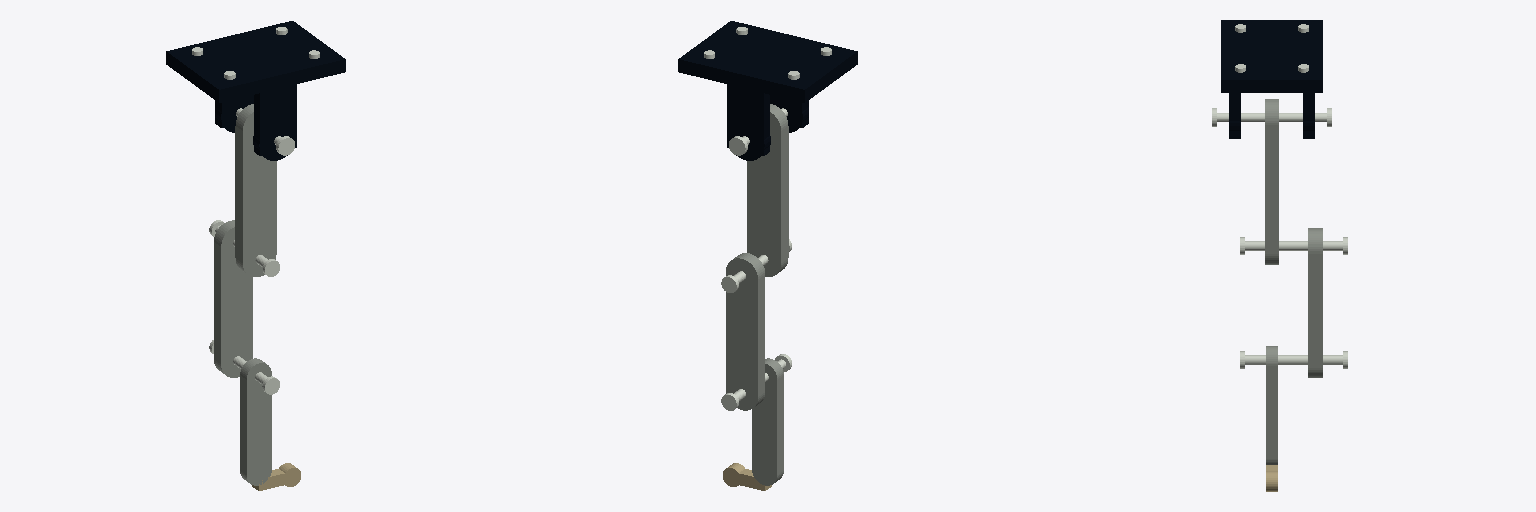
The robot description file, URDF, robot "under_slung_lever_chain":
<robot name="under_slung_lever_chain">
  <material name="dark_blue_painted_steel">
    <color rgba="0.05 0.08 0.12 1" />
    </material>
  <material name="brushed_zinc_link">
    <color rgba="0.58 0.6 0.57 1" />
    </material>
  <material name="polished_pin_steel">
    <color rgba="0.82 0.84 0.8 1" />
    </material>
  <material name="small_bare_end_tab">
    <color rgba="0.72 0.66 0.52 1" />
    </material>
  <material name="dark_hole_bushing">
    <color rgba="0.015 0.014 0.012 1" />
    </material>
  <link name="support_bracket">
    <visual name="top_plate">
      <origin xyz="0 0 0.085" rpy="0 0 0" />
      <geometry>
        <box size="0.18 0.13 0.018" />
        </geometry>
      <material name="dark_blue_painted_steel">
        <color rgba="0.05 0.08 0.12 1" />
        </material>
      </visual>
    <visual name="side_cheek_neg">
      <origin xyz="0 -0.047 0.032" rpy="0 0 0" />
      <geometry>
        <box size="0.052 0.016 0.095" />
        </geometry>
      <material name="dark_blue_painted_steel">
        <color rgba="0.05 0.08 0.12 1" />
        </material>
      </visual>
    <visual name="cheek_boss_neg">
      <origin xyz="0 -0.047 0" rpy="-1.5708 0 0" />
      <geometry>
        <cylinder radius="0.027" length="0.016" />
        </geometry>
      <material name="dark_blue_painted_steel">
        <color rgba="0.05 0.08 0.12 1" />
        </material>
      </visual>
    <visual name="side_cheek_pos">
      <origin xyz="0 0.047 0.032" rpy="0 0 0" />
      <geometry>
        <box size="0.052 0.016 0.095" />
        </geometry>
      <material name="dark_blue_painted_steel">
        <color rgba="0.05 0.08 0.12 1" />
        </material>
      </visual>
    <visual name="cheek_boss_pos">
      <origin xyz="0 0.047 0" rpy="-1.5708 0 0" />
      <geometry>
        <cylinder radius="0.027" length="0.016" />
        </geometry>
      <material name="dark_blue_painted_steel">
        <color rgba="0.05 0.08 0.12 1" />
        </material>
      </visual>
    <visual name="support_pin">
      <origin xyz="0 0 0" rpy="-1.5708 0 0" />
      <geometry>
        <cylinder radius="0.006" length="0.146" />
        </geometry>
      <material name="polished_pin_steel">
        <color rgba="0.82 0.84 0.8 1" />
        </material>
      </visual>
    <visual name="support_pin_head_neg">
      <origin xyz="0 -0.073 0" rpy="-1.5708 0 0" />
      <geometry>
        <cylinder radius="0.012" length="0.006" />
        </geometry>
      <material name="polished_pin_steel">
        <color rgba="0.82 0.84 0.8 1" />
        </material>
      </visual>
    <visual name="support_pin_head_pos">
      <origin xyz="0 0.073 0" rpy="-1.5708 0 0" />
      <geometry>
        <cylinder radius="0.012" length="0.006" />
        </geometry>
      <material name="polished_pin_steel">
        <color rgba="0.82 0.84 0.8 1" />
        </material>
      </visual>
    <visual name="bolt_negx_negy">
      <origin xyz="-0.06 -0.04 0.0965" rpy="0 0 0" />
      <geometry>
        <cylinder radius="0.007" length="0.006" />
        </geometry>
      <material name="polished_pin_steel">
        <color rgba="0.82 0.84 0.8 1" />
        </material>
      </visual>
    <visual name="bolt_negx_posy">
      <origin xyz="-0.06 0.04 0.0965" rpy="0 0 0" />
      <geometry>
        <cylinder radius="0.007" length="0.006" />
        </geometry>
      <material name="polished_pin_steel">
        <color rgba="0.82 0.84 0.8 1" />
        </material>
      </visual>
    <visual name="bolt_posx_negy">
      <origin xyz="0.06 -0.04 0.0965" rpy="0 0 0" />
      <geometry>
        <cylinder radius="0.007" length="0.006" />
        </geometry>
      <material name="polished_pin_steel">
        <color rgba="0.82 0.84 0.8 1" />
        </material>
      </visual>
    <visual name="bolt_posx_posy">
      <origin xyz="0.06 0.04 0.0965" rpy="0 0 0" />
      <geometry>
        <cylinder radius="0.007" length="0.006" />
        </geometry>
      <material name="polished_pin_steel">
        <color rgba="0.82 0.84 0.8 1" />
        </material>
      </visual>
    <collision name="top_plate">
      <origin xyz="0 0 0.085" rpy="0 0 0" />
      <geometry>
        <box size="0.18 0.13 0.018" />
        </geometry>
      </collision>
    <collision name="side_cheek_neg">
      <origin xyz="0 -0.047 0.032" rpy="0 0 0" />
      <geometry>
        <box size="0.052 0.016 0.095" />
        </geometry>
      </collision>
    <collision name="cheek_boss_neg">
      <origin xyz="0 -0.047 0" rpy="-1.5708 0 0" />
      <geometry>
        <cylinder radius="0.027" length="0.016" />
        </geometry>
      </collision>
    <collision name="side_cheek_pos">
      <origin xyz="0 0.047 0.032" rpy="0 0 0" />
      <geometry>
        <box size="0.052 0.016 0.095" />
        </geometry>
      </collision>
    <collision name="cheek_boss_pos">
      <origin xyz="0 0.047 0" rpy="-1.5708 0 0" />
      <geometry>
        <cylinder radius="0.027" length="0.016" />
        </geometry>
      </collision>
    <collision name="support_pin">
      <origin xyz="0 0 0" rpy="-1.5708 0 0" />
      <geometry>
        <cylinder radius="0.006" length="0.146" />
        </geometry>
      </collision>
    <collision name="support_pin_head_neg">
      <origin xyz="0 -0.073 0" rpy="-1.5708 0 0" />
      <geometry>
        <cylinder radius="0.012" length="0.006" />
        </geometry>
      </collision>
    <collision name="support_pin_head_pos">
      <origin xyz="0 0.073 0" rpy="-1.5708 0 0" />
      <geometry>
        <cylinder radius="0.012" length="0.006" />
        </geometry>
      </collision>
    <collision name="bolt_negx_negy">
      <origin xyz="-0.06 -0.04 0.0965" rpy="0 0 0" />
      <geometry>
        <cylinder radius="0.007" length="0.006" />
        </geometry>
      </collision>
    <collision name="bolt_negx_posy">
      <origin xyz="-0.06 0.04 0.0965" rpy="0 0 0" />
      <geometry>
        <cylinder radius="0.007" length="0.006" />
        </geometry>
      </collision>
    <collision name="bolt_posx_negy">
      <origin xyz="0.06 -0.04 0.0965" rpy="0 0 0" />
      <geometry>
        <cylinder radius="0.007" length="0.006" />
        </geometry>
      </collision>
    <collision name="bolt_posx_posy">
      <origin xyz="0.06 0.04 0.0965" rpy="0 0 0" />
      <geometry>
        <cylinder radius="0.007" length="0.006" />
        </geometry>
      </collision>
    </link>
  <link name="link_0">
    <visual name="link_plate">
      <geometry>
        <mesh filename="assets/meshes/link_0_plate.obj" />
        </geometry>
      <material name="brushed_zinc_link">
        <color rgba="0.58 0.6 0.57 1" />
        </material>
      </visual>
    <visual name="top_bushing">
      <geometry>
        <mesh filename="assets/meshes/link_0_top_bushing.obj" />
        </geometry>
      <material name="dark_hole_bushing">
        <color rgba="0.015 0.014 0.012 1" />
        </material>
      </visual>
    <visual name="lower_bushing">
      <geometry>
        <mesh filename="assets/meshes/link_0_lower_bushing.obj" />
        </geometry>
      <material name="dark_hole_bushing">
        <color rgba="0.015 0.014 0.012 1" />
        </material>
      </visual>
    <visual name="lower_pin">
      <origin xyz="0 0.0275 -0.18" rpy="-1.5708 0 0" />
      <geometry>
        <cylinder radius="0.006" length="0.132" />
        </geometry>
      <material name="polished_pin_steel">
        <color rgba="0.82 0.84 0.8 1" />
        </material>
      </visual>
    <visual name="lower_pin_head_neg">
      <origin xyz="0 -0.038 -0.18" rpy="-1.5708 0 0" />
      <geometry>
        <cylinder radius="0.011" length="0.006" />
        </geometry>
      <material name="polished_pin_steel">
        <color rgba="0.82 0.84 0.8 1" />
        </material>
      </visual>
    <visual name="lower_pin_head_pos">
      <origin xyz="0 0.093 -0.18" rpy="-1.5708 0 0" />
      <geometry>
        <cylinder radius="0.011" length="0.006" />
        </geometry>
      <material name="polished_pin_steel">
        <color rgba="0.82 0.84 0.8 1" />
        </material>
      </visual>
    <collision name="link_plate">
      <geometry>
        <mesh filename="assets/meshes/link_0_plate.obj" />
        </geometry>
      </collision>
    <collision name="top_bushing">
      <geometry>
        <mesh filename="assets/meshes/link_0_top_bushing.obj" />
        </geometry>
      </collision>
    <collision name="lower_bushing">
      <geometry>
        <mesh filename="assets/meshes/link_0_lower_bushing.obj" />
        </geometry>
      </collision>
    <collision name="lower_pin">
      <origin xyz="0 0.0275 -0.18" rpy="-1.5708 0 0" />
      <geometry>
        <cylinder radius="0.006" length="0.132" />
        </geometry>
      </collision>
    <collision name="lower_pin_head_neg">
      <origin xyz="0 -0.038 -0.18" rpy="-1.5708 0 0" />
      <geometry>
        <cylinder radius="0.011" length="0.006" />
        </geometry>
      </collision>
    <collision name="lower_pin_head_pos">
      <origin xyz="0 0.093 -0.18" rpy="-1.5708 0 0" />
      <geometry>
        <cylinder radius="0.011" length="0.006" />
        </geometry>
      </collision>
    </link>
  <link name="link_1">
    <visual name="link_plate">
      <geometry>
        <mesh filename="assets/meshes/link_1_plate.obj" />
        </geometry>
      <material name="brushed_zinc_link">
        <color rgba="0.58 0.6 0.57 1" />
        </material>
      </visual>
    <visual name="top_bushing">
      <geometry>
        <mesh filename="assets/meshes/link_1_top_bushing.obj" />
        </geometry>
      <material name="dark_hole_bushing">
        <color rgba="0.015 0.014 0.012 1" />
        </material>
      </visual>
    <visual name="lower_bushing">
      <geometry>
        <mesh filename="assets/meshes/link_1_lower_bushing.obj" />
        </geometry>
      <material name="dark_hole_bushing">
        <color rgba="0.015 0.014 0.012 1" />
        </material>
      </visual>
    <visual name="lower_pin">
      <origin xyz="0 0.0275 -0.16" rpy="-1.5708 0 0" />
      <geometry>
        <cylinder radius="0.006" length="0.132" />
        </geometry>
      <material name="polished_pin_steel">
        <color rgba="0.82 0.84 0.8 1" />
        </material>
      </visual>
    <visual name="lower_pin_head_neg">
      <origin xyz="0 -0.038 -0.16" rpy="-1.5708 0 0" />
      <geometry>
        <cylinder radius="0.011" length="0.006" />
        </geometry>
      <material name="polished_pin_steel">
        <color rgba="0.82 0.84 0.8 1" />
        </material>
      </visual>
    <visual name="lower_pin_head_pos">
      <origin xyz="0 0.093 -0.16" rpy="-1.5708 0 0" />
      <geometry>
        <cylinder radius="0.011" length="0.006" />
        </geometry>
      <material name="polished_pin_steel">
        <color rgba="0.82 0.84 0.8 1" />
        </material>
      </visual>
    <collision name="link_plate">
      <geometry>
        <mesh filename="assets/meshes/link_1_plate.obj" />
        </geometry>
      </collision>
    <collision name="top_bushing">
      <geometry>
        <mesh filename="assets/meshes/link_1_top_bushing.obj" />
        </geometry>
      </collision>
    <collision name="lower_bushing">
      <geometry>
        <mesh filename="assets/meshes/link_1_lower_bushing.obj" />
        </geometry>
      </collision>
    <collision name="lower_pin">
      <origin xyz="0 0.0275 -0.16" rpy="-1.5708 0 0" />
      <geometry>
        <cylinder radius="0.006" length="0.132" />
        </geometry>
      </collision>
    <collision name="lower_pin_head_neg">
      <origin xyz="0 -0.038 -0.16" rpy="-1.5708 0 0" />
      <geometry>
        <cylinder radius="0.011" length="0.006" />
        </geometry>
      </collision>
    <collision name="lower_pin_head_pos">
      <origin xyz="0 0.093 -0.16" rpy="-1.5708 0 0" />
      <geometry>
        <cylinder radius="0.011" length="0.006" />
        </geometry>
      </collision>
    </link>
  <link name="link_2">
    <visual name="link_plate">
      <geometry>
        <mesh filename="assets/meshes/link_2_plate.obj" />
        </geometry>
      <material name="brushed_zinc_link">
        <color rgba="0.58 0.6 0.57 1" />
        </material>
      </visual>
    <visual name="top_bushing">
      <geometry>
        <mesh filename="assets/meshes/link_2_top_bushing.obj" />
        </geometry>
      <material name="dark_hole_bushing">
        <color rgba="0.015 0.014 0.012 1" />
        </material>
      </visual>
    <visual name="tab_bushing">
      <geometry>
        <mesh filename="assets/meshes/link_2_tab_bushing.obj" />
        </geometry>
      <material name="dark_hole_bushing">
        <color rgba="0.015 0.014 0.012 1" />
        </material>
      </visual>
    <visual name="end_tab_neck">
      <origin xyz="0.022 0 -0.148" rpy="0 0 0" />
      <geometry>
        <box size="0.045 0.016 0.016" />
        </geometry>
      <material name="small_bare_end_tab">
        <color rgba="0.72 0.66 0.52 1" />
        </material>
      </visual>
    <visual name="end_tab_tip">
      <origin xyz="0.047 0 -0.148" rpy="-1.5708 0 0" />
      <geometry>
        <cylinder radius="0.013" length="0.016" />
        </geometry>
      <material name="small_bare_end_tab">
        <color rgba="0.72 0.66 0.52 1" />
        </material>
      </visual>
    <collision name="link_plate">
      <geometry>
        <mesh filename="assets/meshes/link_2_plate.obj" />
        </geometry>
      </collision>
    <collision name="top_bushing">
      <geometry>
        <mesh filename="assets/meshes/link_2_top_bushing.obj" />
        </geometry>
      </collision>
    <collision name="tab_bushing">
      <geometry>
        <mesh filename="assets/meshes/link_2_tab_bushing.obj" />
        </geometry>
      </collision>
    <collision name="end_tab_neck">
      <origin xyz="0.022 0 -0.148" rpy="0 0 0" />
      <geometry>
        <box size="0.045 0.016 0.016" />
        </geometry>
      </collision>
    <collision name="end_tab_tip">
      <origin xyz="0.047 0 -0.148" rpy="-1.5708 0 0" />
      <geometry>
        <cylinder radius="0.013" length="0.016" />
        </geometry>
      </collision>
    </link>
  <joint name="support_to_link_0" type="revolute">
    <parent link="support_bracket" />
    <child link="link_0" />
    <axis xyz="0 1 0" />
    <limit effort="8" velocity="2.5" lower="-1.05" upper="1.05" />
    </joint>
  <joint name="link_0_to_link_1" type="revolute">
    <origin xyz="0 0 -0.18" rpy="0 0 0" />
    <parent link="link_0" />
    <child link="link_1" />
    <axis xyz="0 1 0" />
    <limit effort="6" velocity="2.5" lower="-1.25" upper="1.25" />
    </joint>
  <joint name="link_1_to_link_2" type="revolute">
    <origin xyz="0 0 -0.16" rpy="0 0 0" />
    <parent link="link_1" />
    <child link="link_2" />
    <axis xyz="0 1 0" />
    <limit effort="4" velocity="2.5" lower="-1.35" upper="1.35" />
    </joint>
  </robot>

--- Facts derived from the render (not from the file) ---
Views: 3 orthographic renders of the robot side by side, from view 1: azimuth 30°, elevation 25°; view 2: azimuth 150°, elevation 25°; view 3: azimuth 270°, elevation 25°.
Robot: under_slung_lever_chain — 4 links, 3 joints (3 revolute); root link support_bracket; default pose: every joint at zero.
Links seen in each view (by area): view 1: support_bracket, link_0, link_1, link_2; view 2: support_bracket, link_1, link_0, link_2; view 3: support_bracket, link_0, link_1, link_2.
Boxes of the visible links, left/top/right/bottom form: support_bracket: left=166, top=21, right=345, bottom=160; link_0: left=209, top=104, right=279, bottom=276; link_1: left=209, top=220, right=279, bottom=394; link_2: left=240, top=358, right=300, bottom=490; support_bracket: left=678, top=21, right=857, bottom=160; link_1: left=721, top=253, right=791, bottom=410; link_0: left=721, top=104, right=791, bottom=292; link_2: left=723, top=358, right=783, bottom=490; support_bracket: left=1212, top=20, right=1331, bottom=138; link_0: left=1240, top=99, right=1347, bottom=264; link_1: left=1240, top=228, right=1347, bottom=377; link_2: left=1266, top=346, right=1277, bottom=491.
Size in the robot's own frame: 0.18 by 0.172 by 0.6005 metres.
9 mesh visuals loaded from 9 distinct referenced files (9 OBJ).
